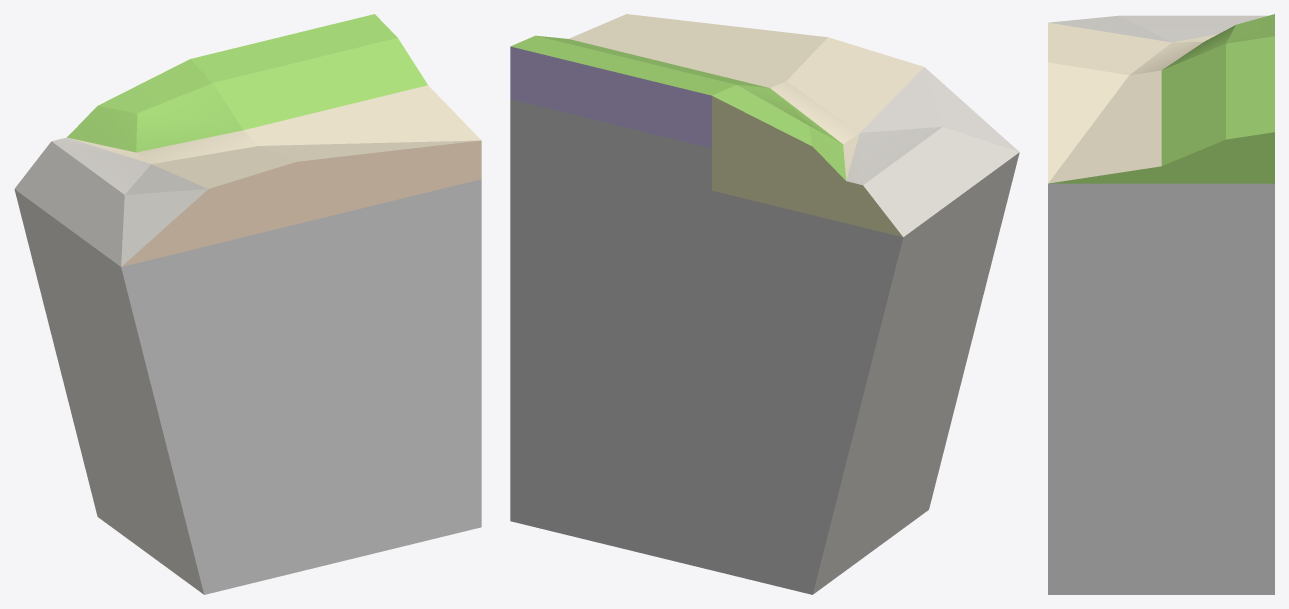
File: Path_Bridge_Edge_Top_1x2.glb
The picture shows the model from 3 angles, left to right: view 1: azimuth 30°, elevation 25°; view 2: azimuth 150°, elevation 25°; view 3: azimuth 270°, elevation 25°; orthographic projection. The views are drawn at different scales.
Visible parts, largest first — view 1: Path_Bridge_Edge_Top_1x2; view 2: Path_Bridge_Edge_Top_1x2; view 3: Path_Bridge_Edge_Top_1x2.
Boxes of the visible parts, box(x1,y1,x2,y2) form: Path_Bridge_Edge_Top_1x2: box(14, 14, 481, 594); Path_Bridge_Edge_Top_1x2: box(510, 14, 1019, 594); Path_Bridge_Edge_Top_1x2: box(1048, 14, 1274, 594).
Bounding box in the file's own units: 195 × 225 × 100.
